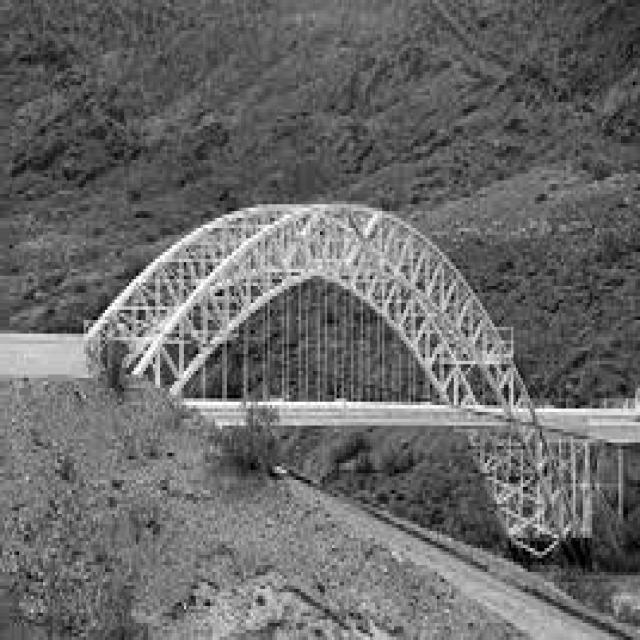Bridges: (76, 150, 640, 560)
